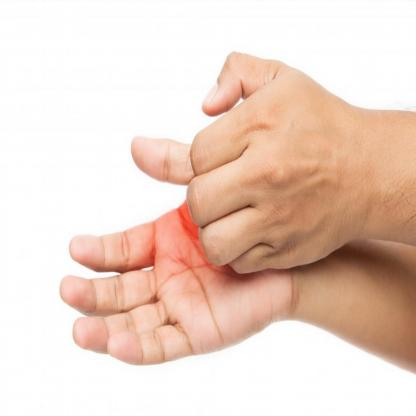fist: (164, 49, 395, 282)
palm: (60, 201, 290, 368)
